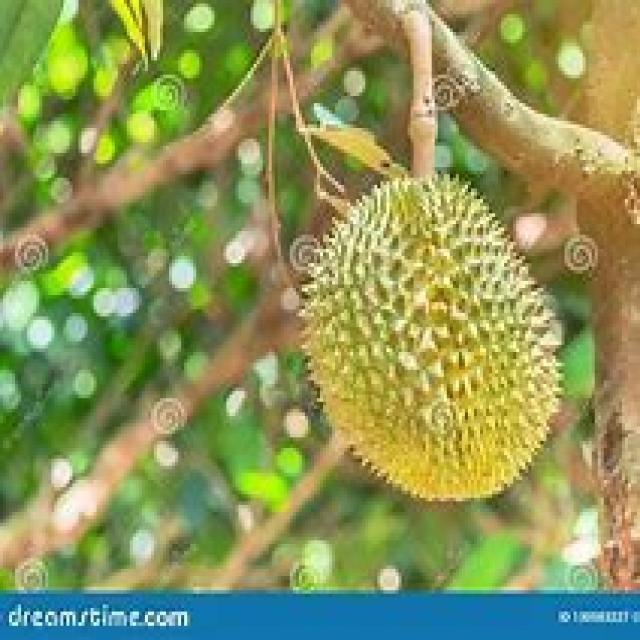mature: (305, 177, 558, 498)
